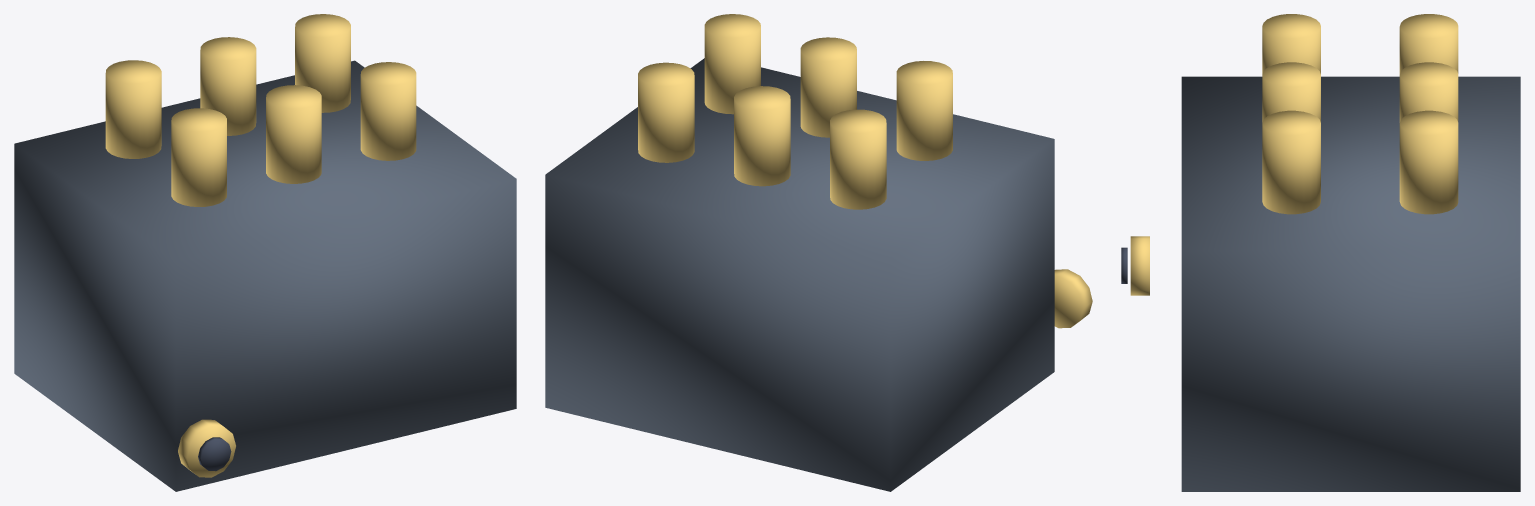
File: 29_L86_ForceTorqueCalibrationFixture.glb
3 renders of one model, left to right at view 1: azimuth 30°, elevation 25°; view 2: azimuth 150°, elevation 25°; view 3: azimuth 270°, elevation 25°, orthographic. The views are drawn at different scales.
Visible parts, largest first — view 1: L86_ForceTorqueCalibrationFix_Part_0000, L86_ForceTorqueCalibrationFix_Part_0001, L86_ForceTorqueCalibrationFix_Part_0002, L86_ForceTorqueCalibrationFix_Part_0003; view 2: L86_ForceTorqueCalibrationFix_Part_0000, L86_ForceTorqueCalibrationFix_Part_0001, L86_ForceTorqueCalibrationFix_Part_0002; view 3: L86_ForceTorqueCalibrationFix_Part_0000, L86_ForceTorqueCalibrationFix_Part_0001, L86_ForceTorqueCalibrationFix_Part_0002.
Boxes of the visible parts, x1=… form: L86_ForceTorqueCalibrationFix_Part_0000: x1=14, y1=60, x2=516, y2=491; L86_ForceTorqueCalibrationFix_Part_0001: x1=105, y1=14, x2=416, y2=206; L86_ForceTorqueCalibrationFix_Part_0002: x1=178, y1=419, x2=235, y2=477; L86_ForceTorqueCalibrationFix_Part_0003: x1=198, y1=437, x2=231, y2=471; L86_ForceTorqueCalibrationFix_Part_0000: x1=545, y1=58, x2=1054, y2=491; L86_ForceTorqueCalibrationFix_Part_0001: x1=638, y1=14, x2=952, y2=209; L86_ForceTorqueCalibrationFix_Part_0002: x1=1054, y1=269, x2=1092, y2=328; L86_ForceTorqueCalibrationFix_Part_0000: x1=1181, y1=76, x2=1520, y2=491; L86_ForceTorqueCalibrationFix_Part_0001: x1=1262, y1=14, x2=1458, y2=214; L86_ForceTorqueCalibrationFix_Part_0002: x1=1130, y1=236, x2=1149, y2=295.
Bounding box in the file's own units: 0.935 × 0.795 × 0.872.
